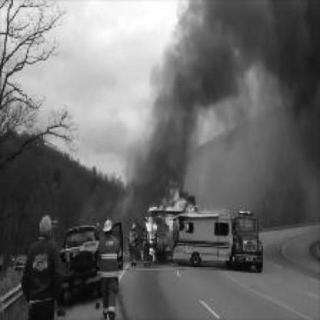Fire: (142, 178, 200, 246)
Smoke: (126, 2, 320, 174)
